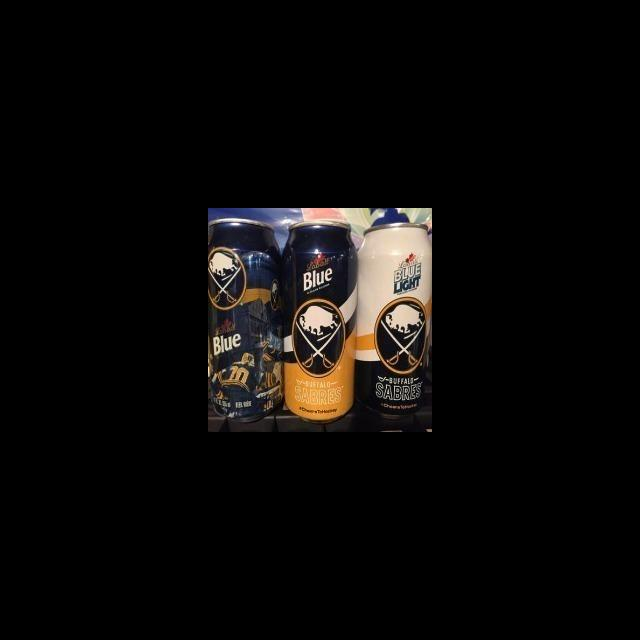metal: (277, 208, 356, 428), (353, 217, 432, 429), (208, 214, 281, 432)
